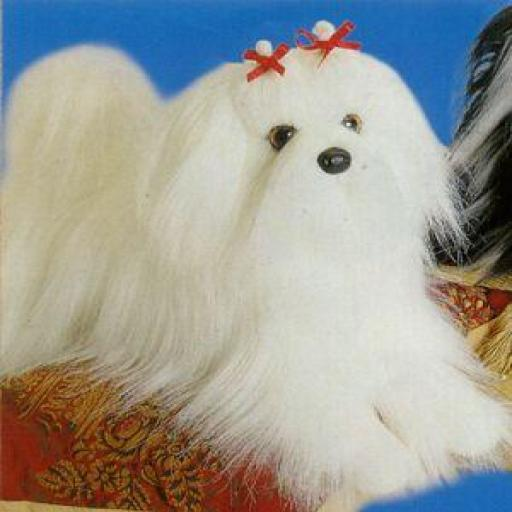dog_face: (189, 45, 432, 230)
